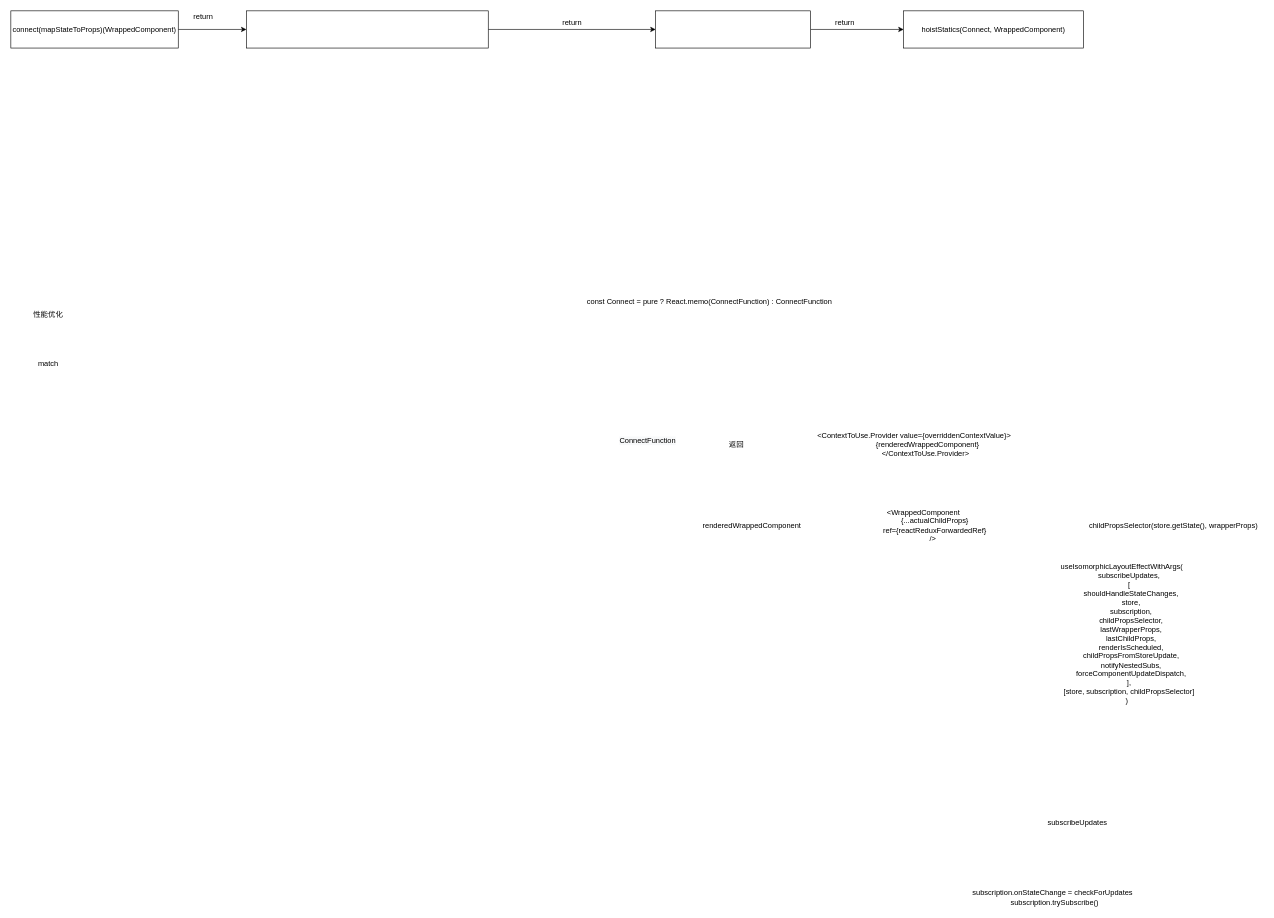
Some shapes in this 1274 by 918 pixel diagram are drawn without their labels. Here are the shapes that lost their labels. From the top down, the centre of each, then its label:
At pixel 367 29: "connectHOC(selectorFactory,args)(WrappedComponent)".
At pixel 733 29: "wrapWithConnect(WrappedComponent)".
